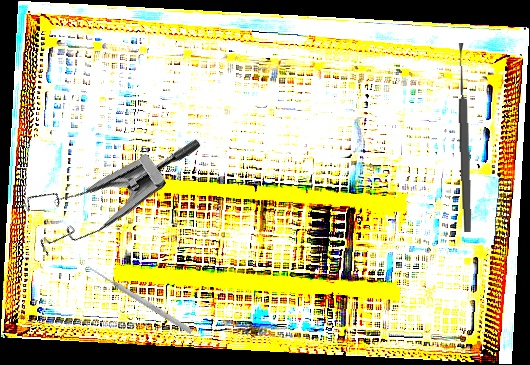Pusher: (87, 264, 195, 336)
Speculum: (7, 82, 205, 281)
Surgical Spoon: (455, 42, 474, 233)
